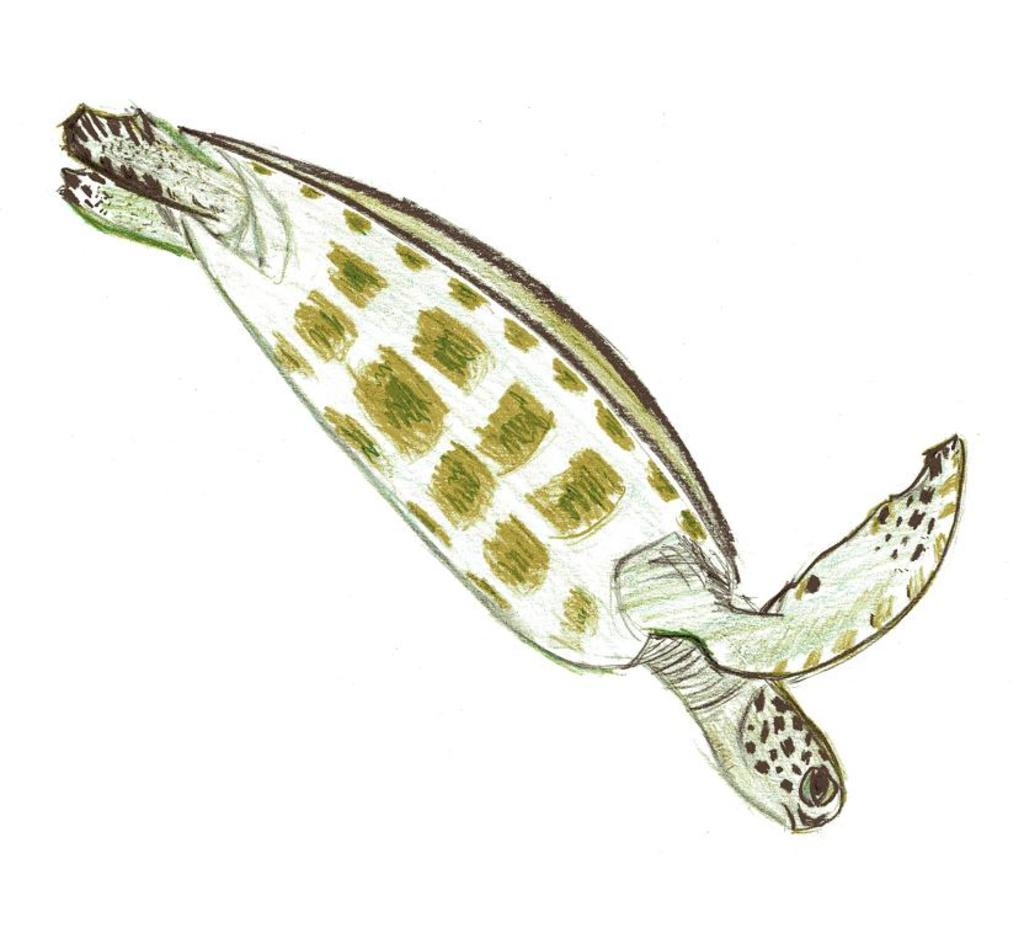Sea turtles: (51, 92, 968, 840)
